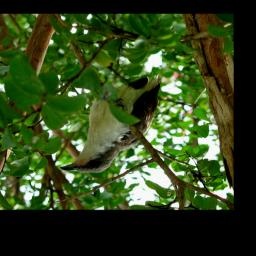Cuckoo: (61, 72, 163, 174)
